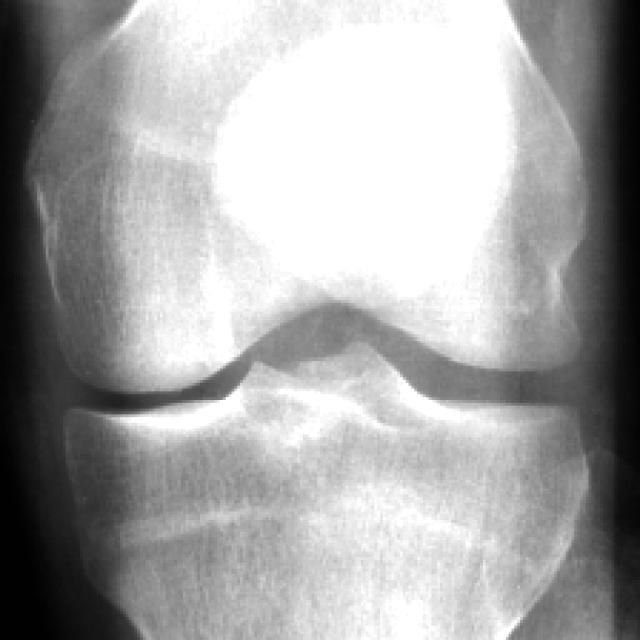femur: (21, 1, 582, 393)
tibia: (69, 343, 583, 637)
